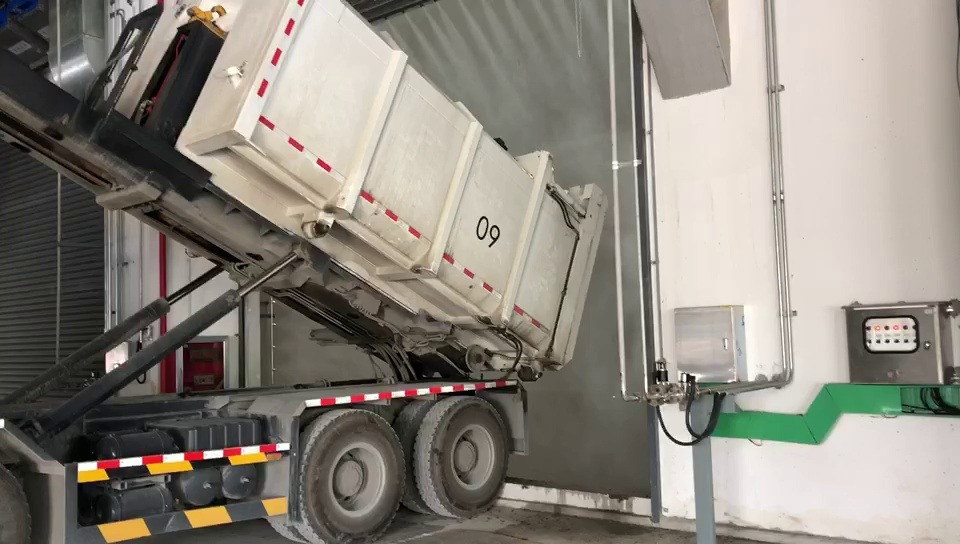truck: (0, 0, 616, 544)
